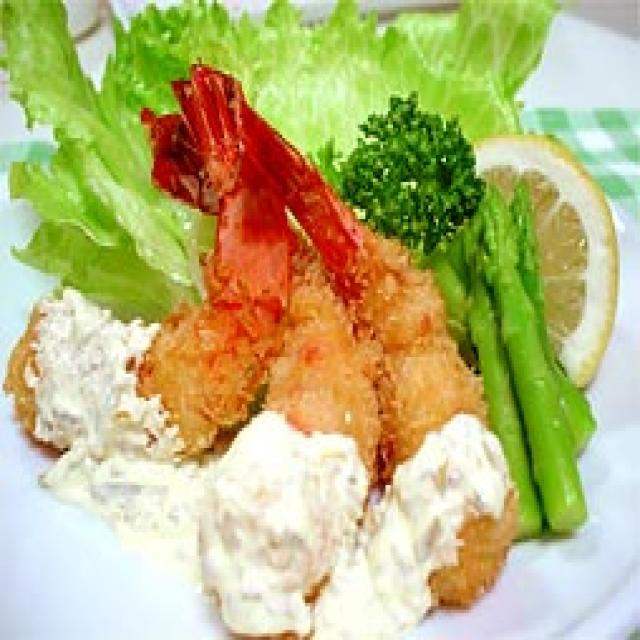炸货点心: (0, 47, 534, 617)
熟制海鲜: (0, 47, 534, 617)
